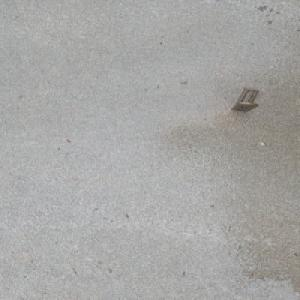MetalPart: (229, 87, 260, 112)
